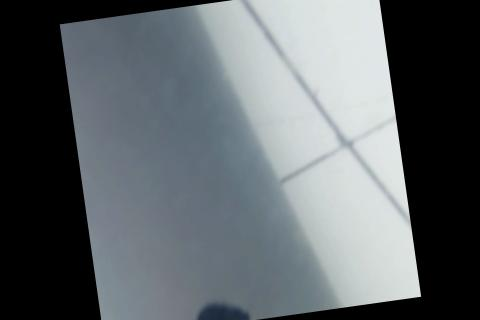kebocoran: (155, 294, 252, 320)
